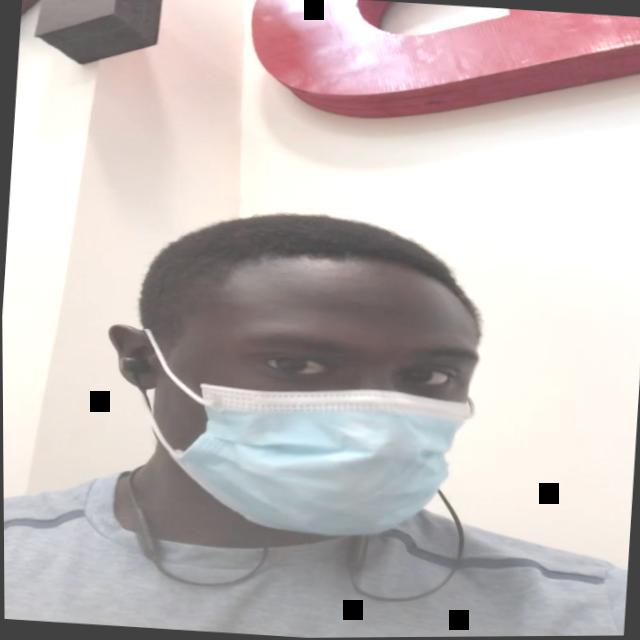Mask: (132, 268, 487, 544)
